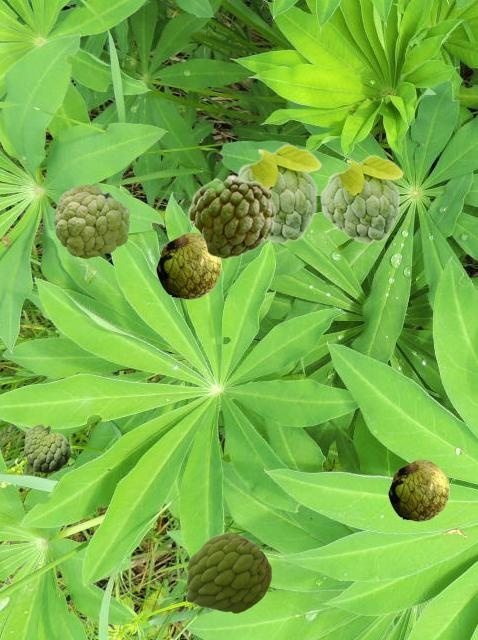atis: (237, 143, 321, 243), (319, 154, 403, 243), (187, 174, 275, 258), (186, 532, 270, 612), (54, 184, 128, 257), (156, 232, 220, 298), (388, 459, 448, 520), (24, 424, 69, 472)
